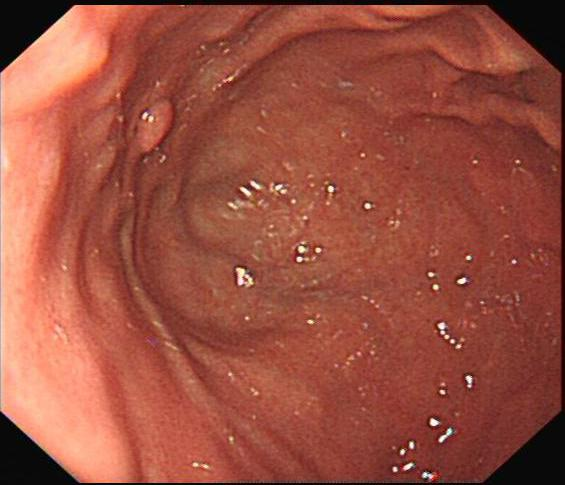Polyp: (119, 80, 185, 175)
